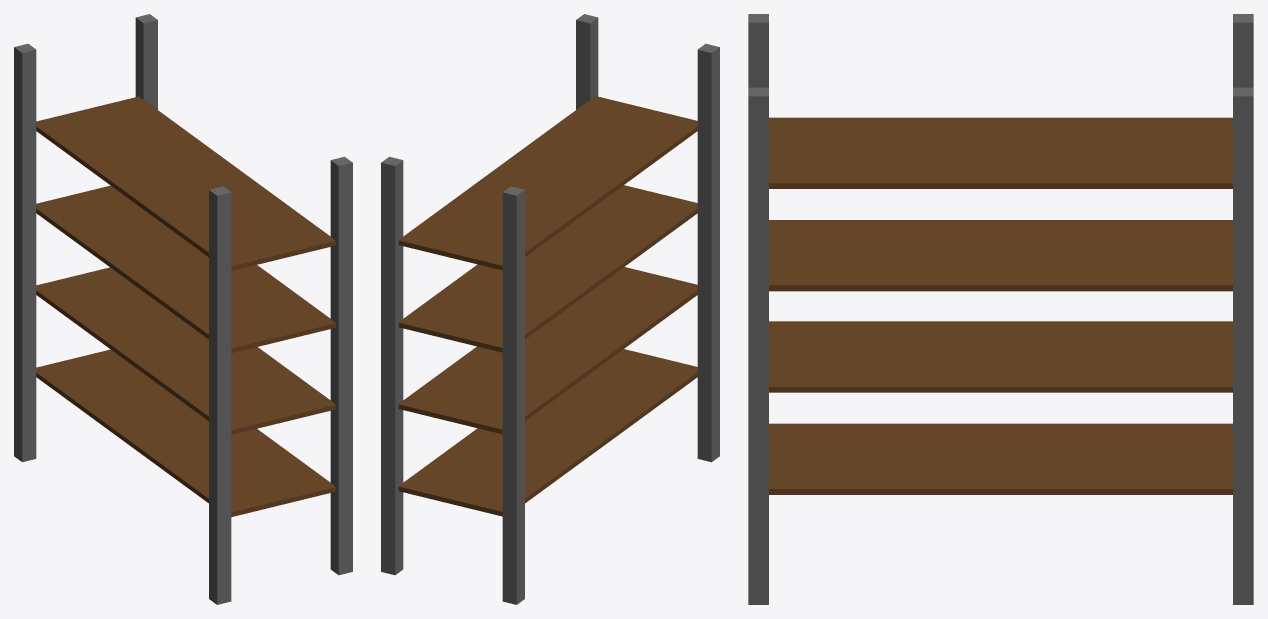
Rendered from Big Rack.fbx.
3 views of the same model, side by side, from view 1: azimuth 30°, elevation 25°; view 2: azimuth 150°, elevation 25°; view 3: azimuth 270°, elevation 25° (orthographic). The views are drawn at different scales.
Visible parts, largest first — view 1: Wood, Steel.001; view 2: Wood, Steel.001; view 3: Wood, Steel.001.
Boxes of the visible parts, x1=… form: Wood: x1=36, y1=96, x2=335, y2=516; Steel.001: x1=14, y1=14, x2=352, y2=604; Wood: x1=398, y1=96, x2=697, y2=516; Steel.001: x1=381, y1=14, x2=719, y2=604; Wood: x1=769, y1=117, x2=1232, y2=494; Steel.001: x1=748, y1=14, x2=1253, y2=604.
Size of the model in its own units: 95.45 by 275 by 247.
